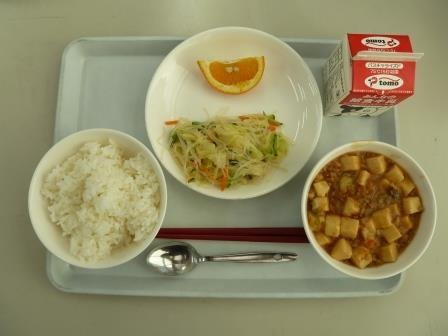Citrus: (195, 47, 272, 97)
Milk: (324, 23, 420, 121)
Rice: (42, 137, 169, 257)
Salad: (166, 104, 290, 187)
Spicy chili-flavored tofu: (298, 147, 437, 272)
